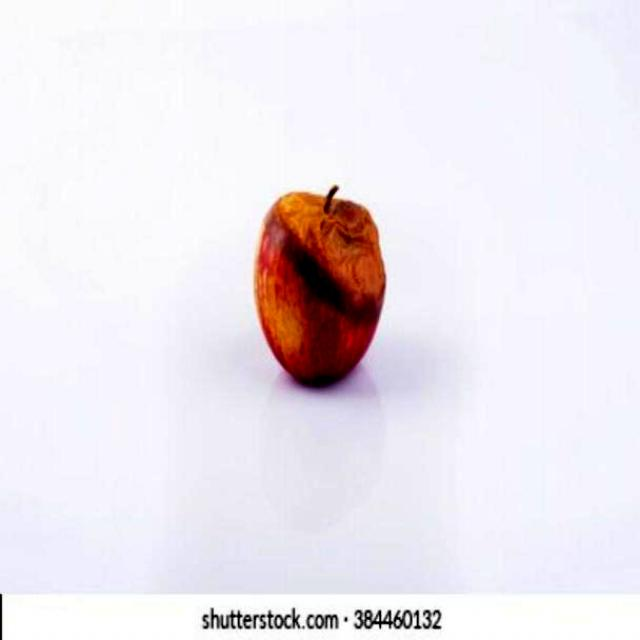ROT: (235, 167, 402, 400)
